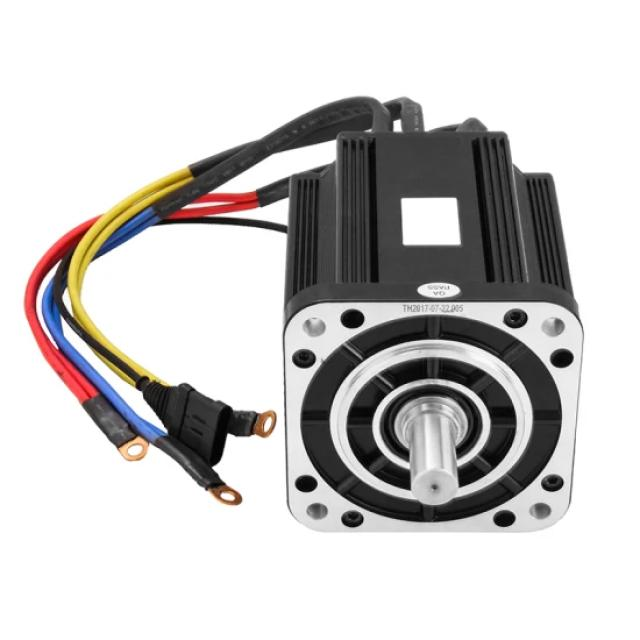motor: (280, 114, 581, 534)
